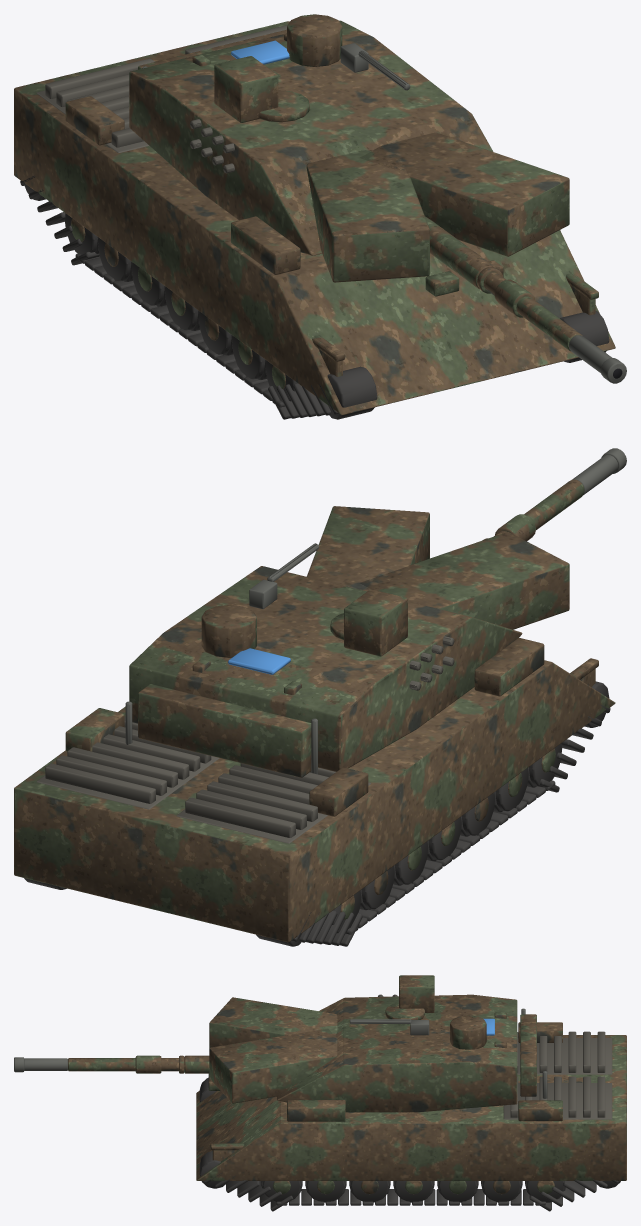
The model's file is mbt_e4_de_leopard2a6_LOD0.glb.
The picture shows the model from 3 angles, top to bottom: view 1: azimuth 30°, elevation 25°; view 2: azimuth 150°, elevation 25°; view 3: azimuth 270°, elevation 25°; orthographic projection. The views are drawn at different scales.
Parts seen in each view (by area): view 1: mbt_e4_de_leopard2a6_LOD0_body, mbt_e4_de_leopard2a6_LOD0_track, mbt_e4_de_leopard2a6_LOD0_deck, mbt_e4_de_leopard2a6_LOD0_gun, mbt_e4_de_leopard2a6_LOD0_team; view 2: mbt_e4_de_leopard2a6_LOD0_body, mbt_e4_de_leopard2a6_LOD0_deck, mbt_e4_de_leopard2a6_LOD0_track, mbt_e4_de_leopard2a6_LOD0_gun, mbt_e4_de_leopard2a6_LOD0_team; view 3: mbt_e4_de_leopard2a6_LOD0_body, mbt_e4_de_leopard2a6_LOD0_track, mbt_e4_de_leopard2a6_LOD0_deck, mbt_e4_de_leopard2a6_LOD0_gun.
Part boxes in pixels (left/top/right/bottom): mbt_e4_de_leopard2a6_LOD0_body: left=14, top=14, right=615, bottom=415; mbt_e4_de_leopard2a6_LOD0_track: left=20, top=175, right=609, bottom=419; mbt_e4_de_leopard2a6_LOD0_deck: left=36, top=25, right=287, bottom=173; mbt_e4_de_leopard2a6_LOD0_gun: left=142, top=43, right=626, bottom=383; mbt_e4_de_leopard2a6_LOD0_team: left=231, top=40, right=289, bottom=64; mbt_e4_de_leopard2a6_LOD0_body: left=14, top=479, right=615, bottom=942; mbt_e4_de_leopard2a6_LOD0_deck: left=36, top=636, right=454, bottom=843; mbt_e4_de_leopard2a6_LOD0_track: left=24, top=681, right=610, bottom=946; mbt_e4_de_leopard2a6_LOD0_gun: left=125, top=448, right=626, bottom=774; mbt_e4_de_leopard2a6_LOD0_team: left=228, top=648, right=290, bottom=674; mbt_e4_de_leopard2a6_LOD0_body: left=68, top=975, right=626, bottom=1194; mbt_e4_de_leopard2a6_LOD0_track: left=199, top=1077, right=620, bottom=1211; mbt_e4_de_leopard2a6_LOD0_deck: left=378, top=994, right=612, bottom=1119; mbt_e4_de_leopard2a6_LOD0_gun: left=14, top=1008, right=547, bottom=1098.
Size of the model in its own units: 3.75 by 3.27 by 10.97.
Materials: 6 (1 with a texture image).
